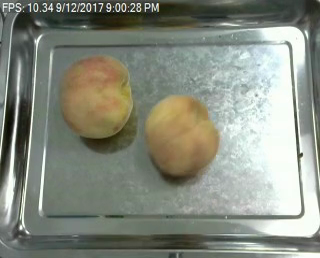Peach: (58, 52, 134, 138), (144, 93, 219, 176)
